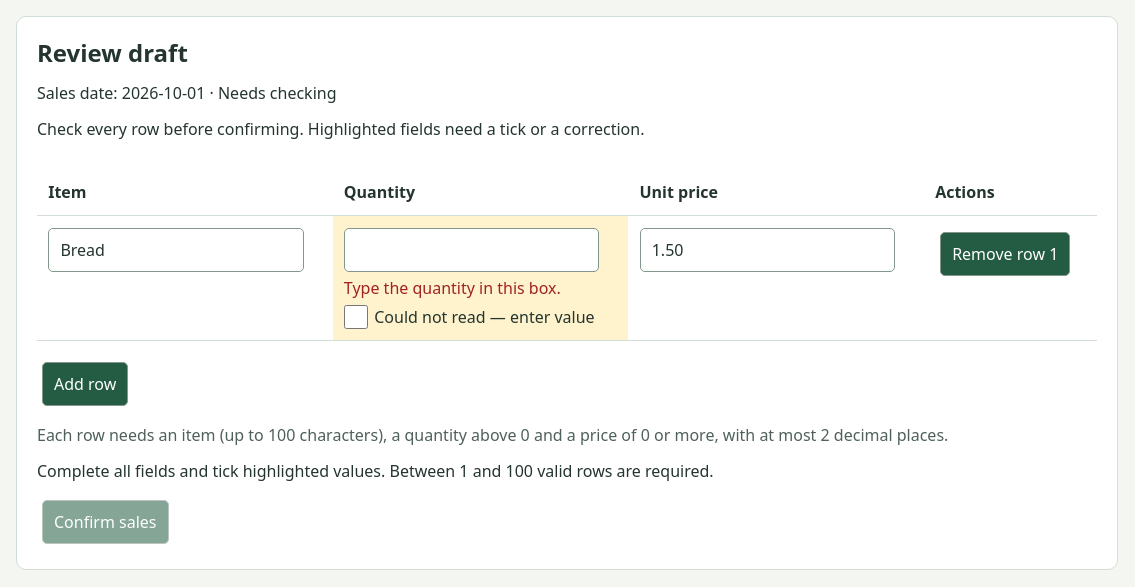
Scenario: Draft review › blanks low-confidence fields and permits correction without a separate verification click
Check: the button "Confirm sales" is disabled, box [42,500,169,544]
Type "2.5" into the 2nd field named "Row 1 Quantity" at (472, 250), box [344,228,599,272]
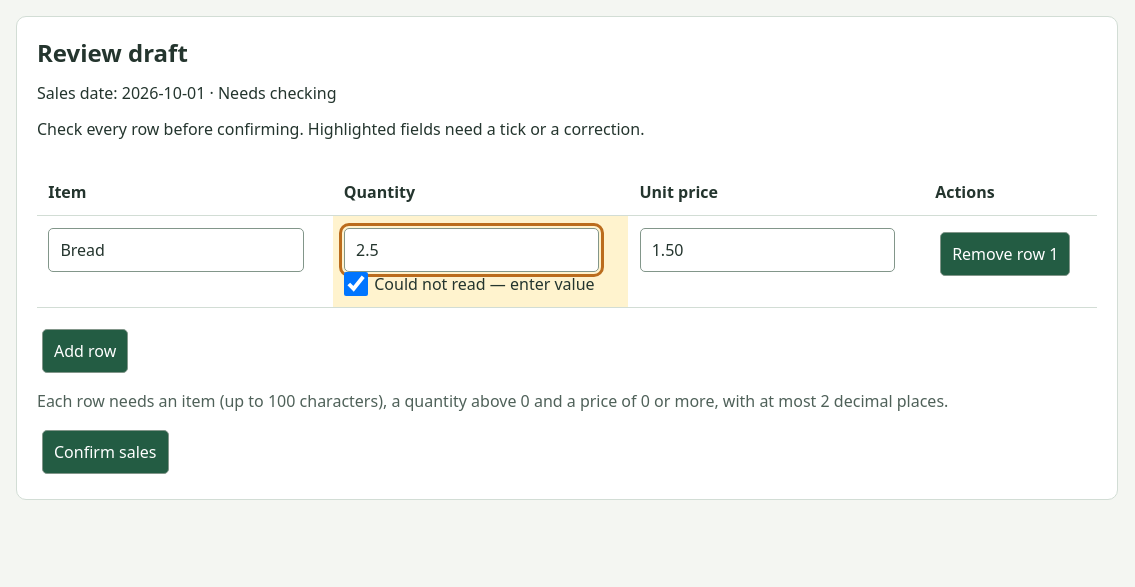
Check: the button "Confirm sales" is enabled, box [42,430,169,474]
